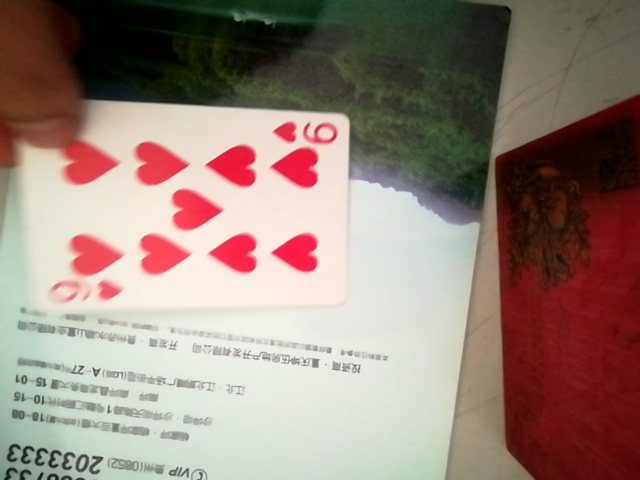hx 9: (19, 100, 357, 314)
